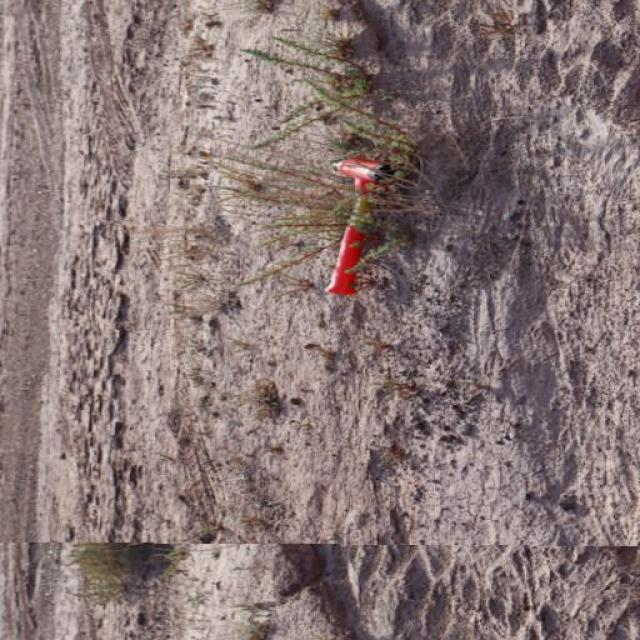mallet: (322, 154, 392, 296)
